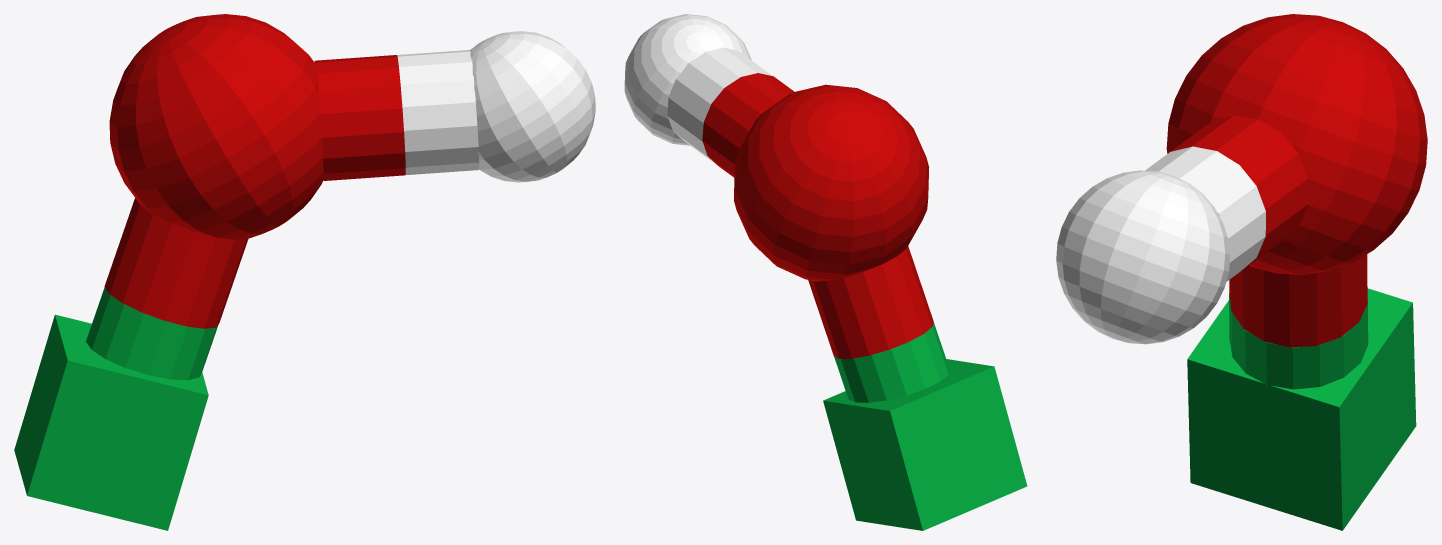
The model's file is alcohol.obj.
3 views of the same model, side by side, from view 1: azimuth 30°, elevation 25°; view 2: azimuth 150°, elevation 25°; view 3: azimuth 270°, elevation 25° (orthographic). The views are drawn at different scales.
Visible parts, largest first — view 1: Shape_Sphere_Shape_Sphere.001, Cube_Cube.003, Shape_Sphere.013_Shape_Sphere.003, Shape_Cylinder.003, Shape_Cylinder.011, Shape_Cylinder.013, Shape_Cylinder.010; view 2: Shape_Sphere_Shape_Sphere.001, Cube_Cube.003, Shape_Cylinder.003, Shape_Sphere.013_Shape_Sphere.003, Shape_Cylinder.010, Shape_Cylinder.013, Shape_Cylinder.011; view 3: Shape_Sphere_Shape_Sphere.001, Cube_Cube.003, Shape_Sphere.013_Shape_Sphere.003, Shape_Cylinder.003, Shape_Cylinder.011, Shape_Cylinder.013, Shape_Cylinder.010.
Boxes of the visible parts, left/top/right/bottom form: Shape_Sphere_Shape_Sphere.001: left=109, top=14, right=323, bottom=239; Cube_Cube.003: left=14, top=314, right=208, bottom=530; Shape_Sphere.013_Shape_Sphere.003: left=469, top=31, right=595, bottom=182; Shape_Cylinder.003: left=104, top=198, right=248, bottom=328; Shape_Cylinder.011: left=314, top=55, right=405, bottom=180; Shape_Cylinder.013: left=397, top=50, right=479, bottom=174; Shape_Cylinder.010: left=86, top=287, right=218, bottom=380; Shape_Sphere_Shape_Sphere.001: left=734, top=84, right=929, bottom=280; Cube_Cube.003: left=823, top=359, right=1027, bottom=530; Shape_Cylinder.003: left=808, top=246, right=933, bottom=358; Shape_Sphere.013_Shape_Sphere.003: left=624, top=14, right=751, bottom=145; Shape_Cylinder.010: left=834, top=322, right=949, bottom=402; Shape_Cylinder.013: left=667, top=47, right=772, bottom=164; Shape_Cylinder.011: left=702, top=73, right=794, bottom=177; Shape_Sphere_Shape_Sphere.001: left=1166, top=14, right=1427, bottom=274; Cube_Cube.003: left=1187, top=288, right=1416, bottom=530; Shape_Sphere.013_Shape_Sphere.003: left=1056, top=170, right=1230, bottom=344; Shape_Cylinder.003: left=1229, top=254, right=1367, bottom=347; Shape_Cylinder.011: left=1169, top=115, right=1308, bottom=271; Shape_Cylinder.013: left=1145, top=146, right=1265, bottom=281; Shape_Cylinder.010: left=1229, top=293, right=1368, bottom=390.
Size of the model in its own units: 0.4756 by 0.4163 by 0.2637.
